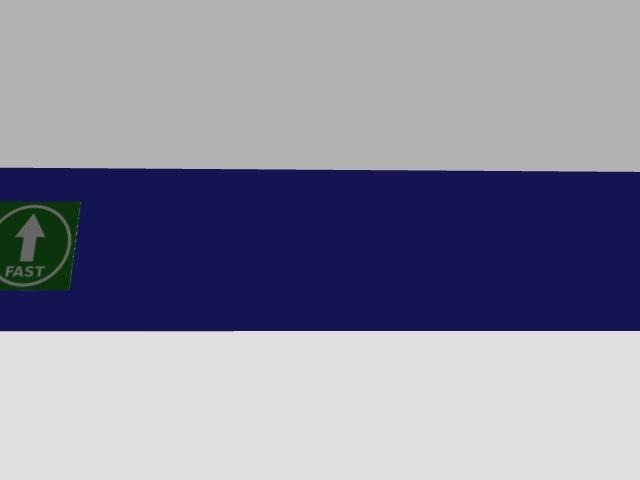fast: (0, 202, 79, 289)
